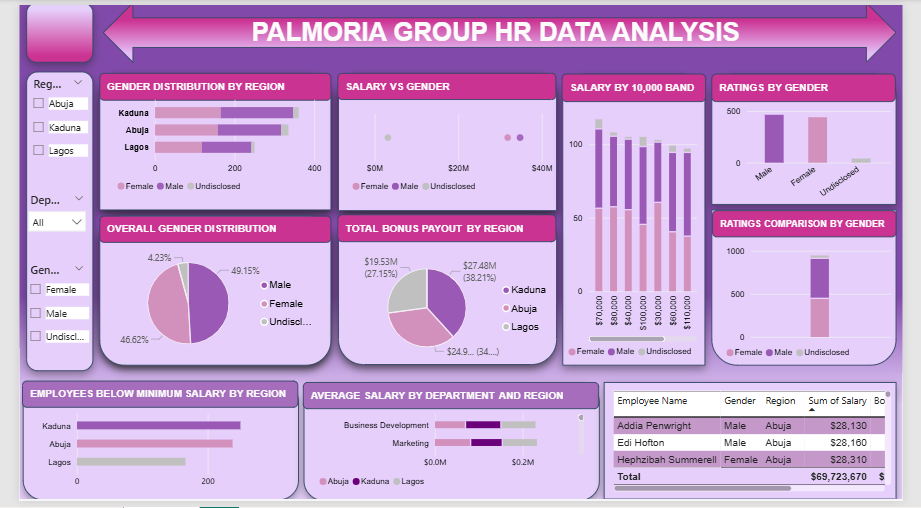

This screenshot's page, from the dashboard's own definition file:
{"tool":"powerbi","page":{"name":"Page 1","canvas":[1280,720],"ordinal":0},"visuals":[{"type":"barChart","title":"Gender Distribution by Region","fields":{"Category":["Palmoria HR Data.Region"],"Y":["Palmoria HR Data.Gender Count"],"Series":["Palmoria HR Data.Gender"]},"box":[126.1,116.2,328.8,175.7],"z":0},{"type":"pieChart","fields":{"Y":["Palmoria HR Data.Gender Percentage"],"Category":["Palmoria HR Data.Gender"]},"box":[126.1,333.1,328.8,199.8],"z":1000},{"type":"slicer","fields":{"Values":["Palmoria HR Data.Region"]},"box":[13.2,102.9,86.8,152.9],"z":2000},{"type":"slicer","fields":{"Values":["Palmoria HR Data.Department"]},"box":[8.8,270.6,92.6,82.4],"z":3000},{"type":"lineStackedColumnComboChart","fields":{"Category":["Palmoria HR Data.Gender"],"Y":["Palmoria HR Data.Rating count by gender"]},"box":[1009.1,116.2,270.7,195.6],"z":4000},{"type":"slicer","fields":{"Values":["Palmoria HR Data.Gender"]},"box":[8.8,372.1,92.6,160.3],"z":5000},{"type":"lineStackedColumnComboChart","fields":{"Y":["Palmoria HR Data.Rating count by gender"],"Series":["Palmoria HR Data.Gender"]},"box":[1009.1,333.1,270.7,199.8],"z":6000},{"type":"scatterChart","fields":{"X":["Sum(Palmoria HR Data.Salary)"],"Series":["Palmoria HR Data.Gender"],"Category":["Palmoria HR Data.Gender"]},"box":[466.3,136.1,323.1,155.9],"z":7000},{"type":"barChart","fields":{"Y":["Palmoria HR Data.Average Salary"],"Category":["Palmoria HR Data.Department"],"Series":["Palmoria HR Data.Region"]},"box":[418.8,571,415.9,149.3],"z":8000},{"type":"lineStackedColumnComboChart","fields":{"Y":["Palmoria HR Data.Gender Count"],"Series":["Palmoria HR Data.Gender"],"Category":["Palmoria HR Data.Salary (bins)"]},"box":[779.4,136.8,219.1,395.6],"z":9000},{"type":"barChart","fields":{"Y":["Palmoria HR Data.Employees below minimum salary"],"Category":["Palmoria HR Data.Region"]},"box":[12.8,571.2,381.3,148.8],"z":10000},{"type":"pieChart","fields":{"Category":["Palmoria HR Data.Region"],"Y":["Sum(Palmoria HR Data.Total Amount Paid)"]},"box":[466.3,345.8,323.1,187.1],"z":11000},{"type":"tableEx","fields":{"Values":["Palmoria HR Data.Name","Palmoria HR Data.Gender","Palmoria HR Data.Region","Palmoria HR Data.Salary","Sum(Palmoria HR Data.Annual Bonus Amount)","Sum(Palmoria HR Data.Total Amount Paid)"]},"box":[844.7,544.3,435.1,176],"z":12000}]}

Visuals, with their boxes in screenshot pixels (x1, y1, x2, y2), scaled from the page's 1280x720 canvas onto the 921x508 screenshot:
"Gender Distribution by Region" barChart: select_region(91, 82, 327, 206)
pieChart - Palmoria HR Data.Gender Percentage x Palmoria HR Data.Gender: select_region(91, 235, 327, 376)
slicer - Palmoria HR Data.Region: select_region(9, 73, 72, 180)
slicer - Palmoria HR Data.Department: select_region(6, 191, 73, 249)
lineStackedColumnComboChart - Palmoria HR Data.Gender x Palmoria HR Data.Rating count by gender: select_region(726, 82, 920, 220)
slicer - Palmoria HR Data.Gender: select_region(6, 263, 73, 376)
lineStackedColumnComboChart - Palmoria HR Data.Rating count by gender x Palmoria HR Data.Gender: select_region(726, 235, 920, 376)
scatterChart - Sum(Palmoria HR Data.Salary) x Palmoria HR Data.Gender: select_region(336, 96, 568, 206)
barChart - Palmoria HR Data.Average Salary x Palmoria HR Data.Department: select_region(301, 403, 601, 507)
lineStackedColumnComboChart - Palmoria HR Data.Gender Count x Palmoria HR Data.Gender: select_region(561, 97, 718, 376)
barChart - Palmoria HR Data.Employees below minimum salary x Palmoria HR Data.Region: select_region(9, 403, 284, 507)
pieChart - Palmoria HR Data.Region x Sum(Palmoria HR Data.Total Amount Paid): select_region(336, 244, 568, 376)
tableEx - Palmoria HR Data.Name x Palmoria HR Data.Gender: select_region(608, 384, 920, 507)
